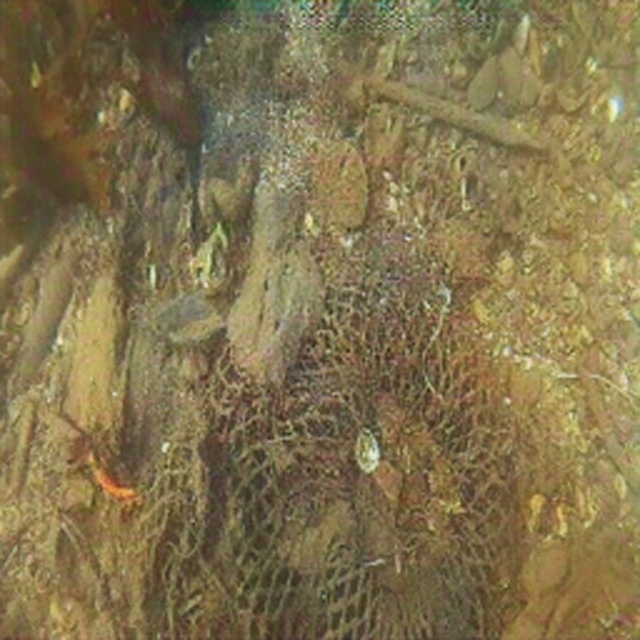mine: (127, 273, 524, 639)
